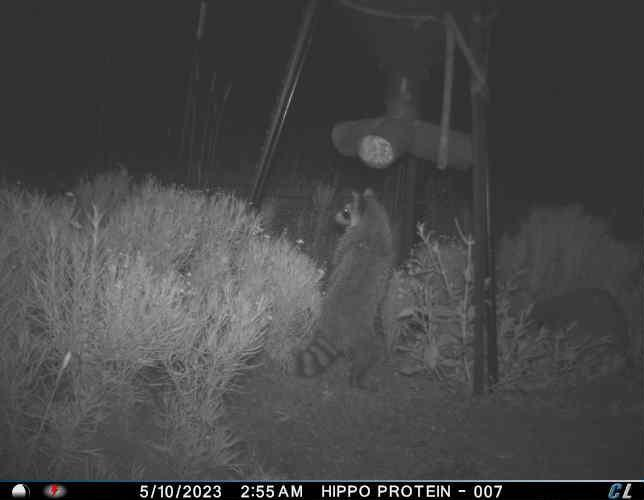Raccoon: (291, 187, 396, 396), (531, 285, 631, 356)
